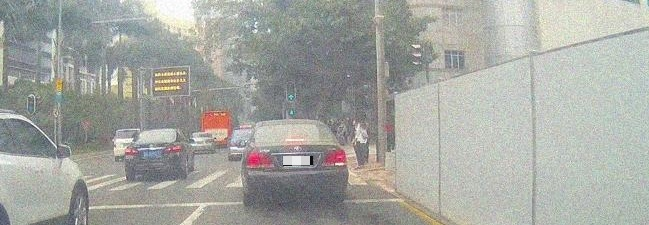L_light: (246, 153, 274, 167), (125, 148, 139, 155)
R_light: (322, 151, 347, 166), (165, 145, 181, 152)
T_light: (286, 137, 305, 142), (154, 131, 162, 134)
day-brake: (244, 119, 348, 206)
day-no: (124, 128, 182, 180)
plate_1: (283, 156, 313, 166)
